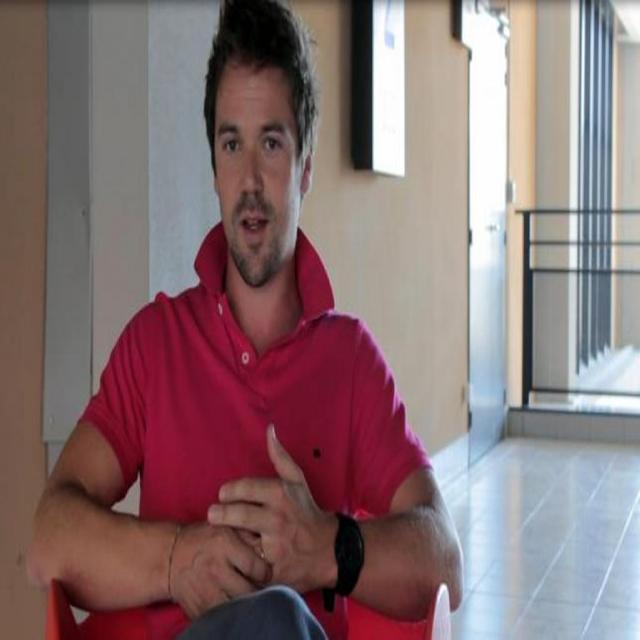nomask: (215, 68, 296, 288)
